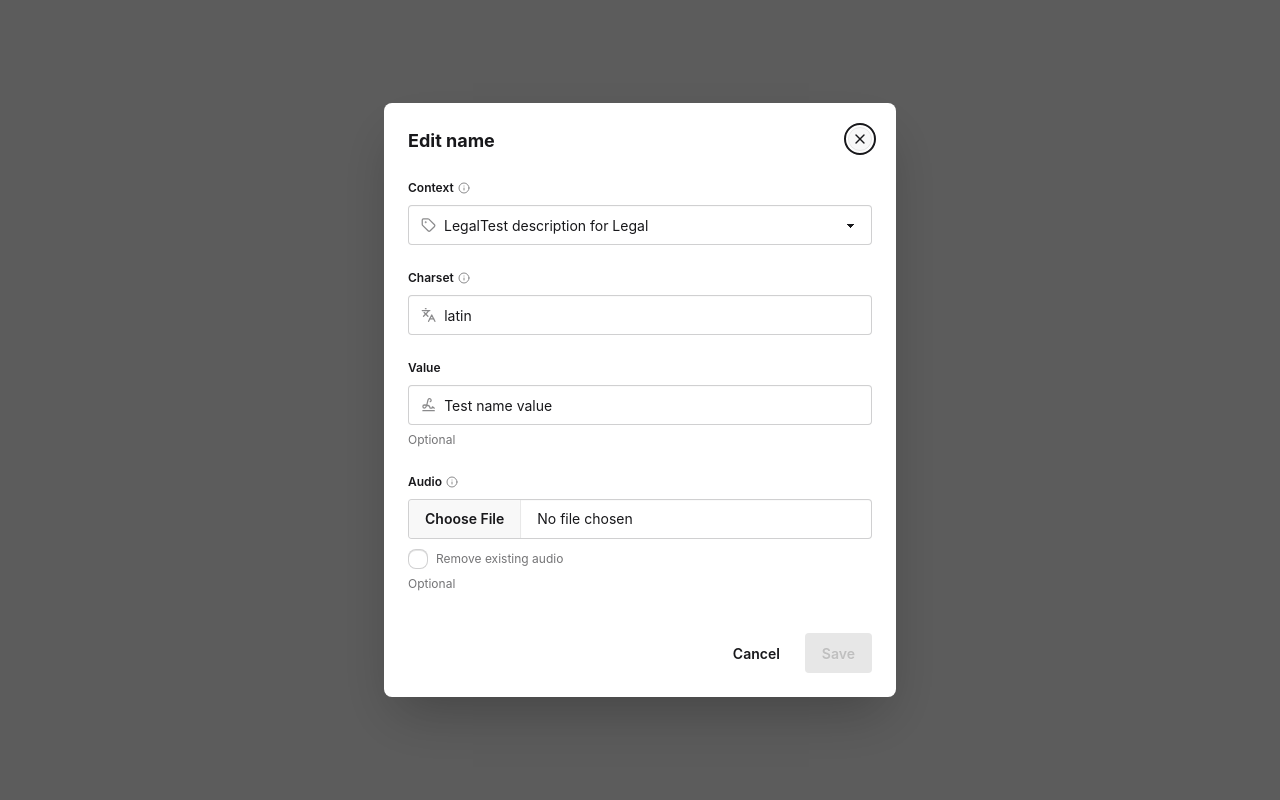
Test: NameFormModal › unchecks remove audio checkbox and keeps a previously selected file
The image size is (1280, 800).
// Check the checkbox and verify the file input is disabled
Click the checkbox labelled "Remove existing audio" at (418, 559), box [408,549,428,569]
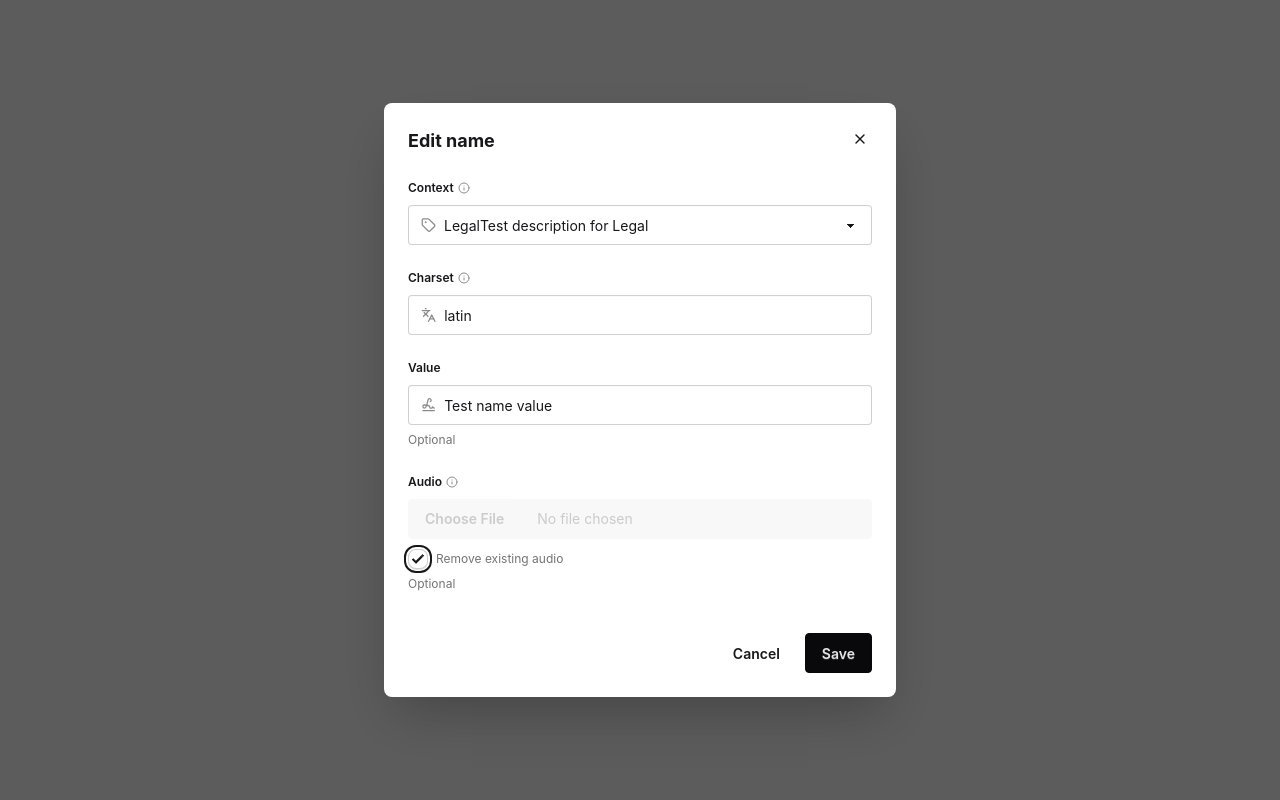
Now the file field is disabled, box [408,499,872,539]
// Uncheck the checkbox and verify the file input is enabled
Click the checkbox labelled "Remove existing audio" at (418, 559), box [408,549,428,569]
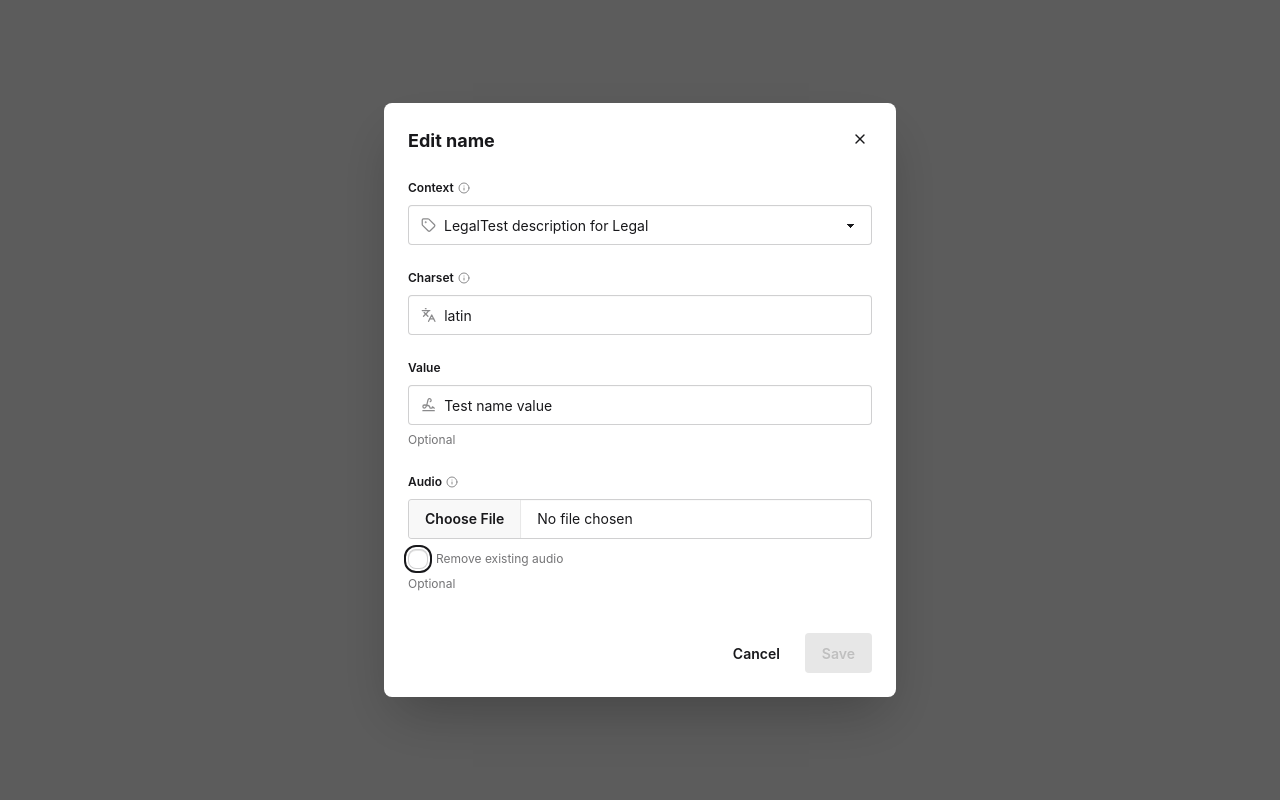
Now the checkbox labelled "Remove existing audio" is not checked, box [408,549,428,569]
Now the file field is enabled, box [408,499,872,539]
